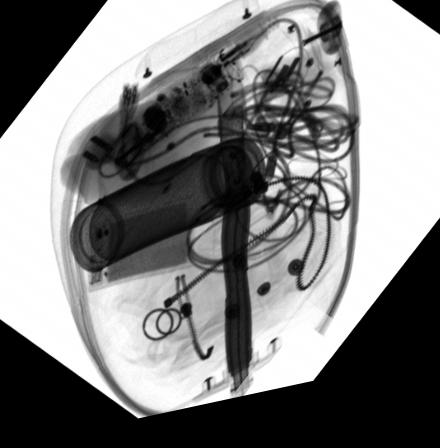Powerbank: (85, 203, 196, 296)
